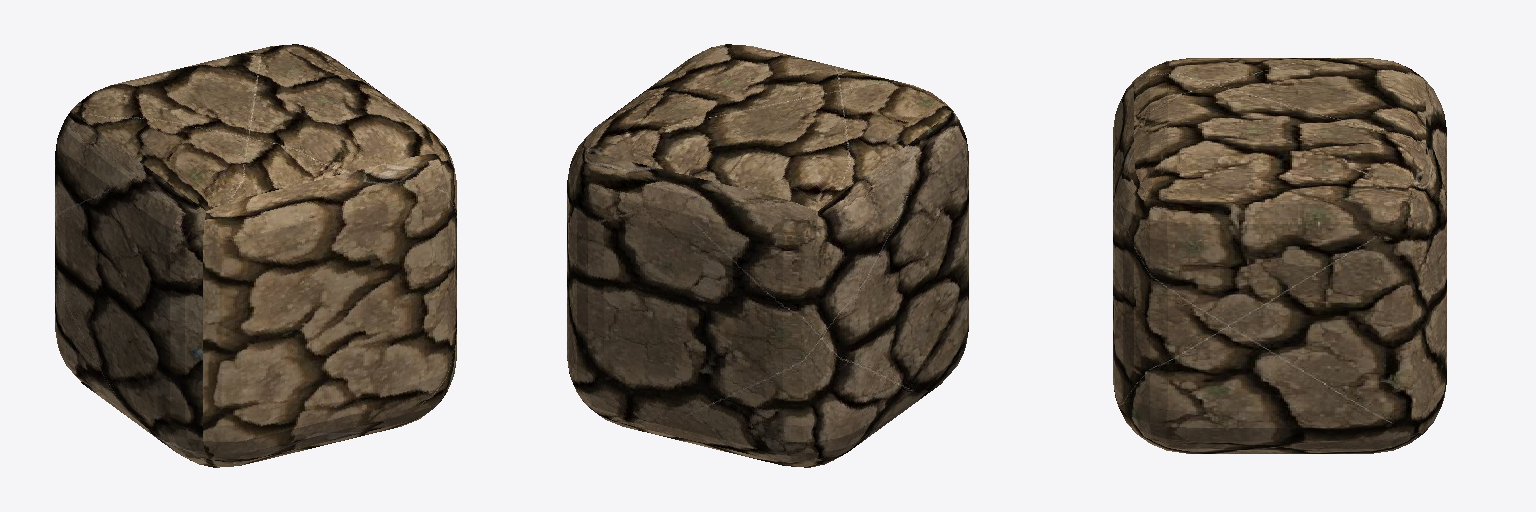
3 renders of one model, left to right at view 1: azimuth 30°, elevation 25°; view 2: azimuth 150°, elevation 25°; view 3: azimuth 270°, elevation 25°, orthographic.
Parts seen in each view (by area): view 1: Cube_Cube.001; view 2: Cube_Cube.001; view 3: Cube_Cube.001.
Part boxes in pixels (x1,y1,x2,y2): Cube_Cube.001: (55,44,456,467); Cube_Cube.001: (567,44,968,467); Cube_Cube.001: (1113,58,1446,453).
Size of the model in its own units: 2 by 2 by 2.
Materials: 1 (1 with a texture image).